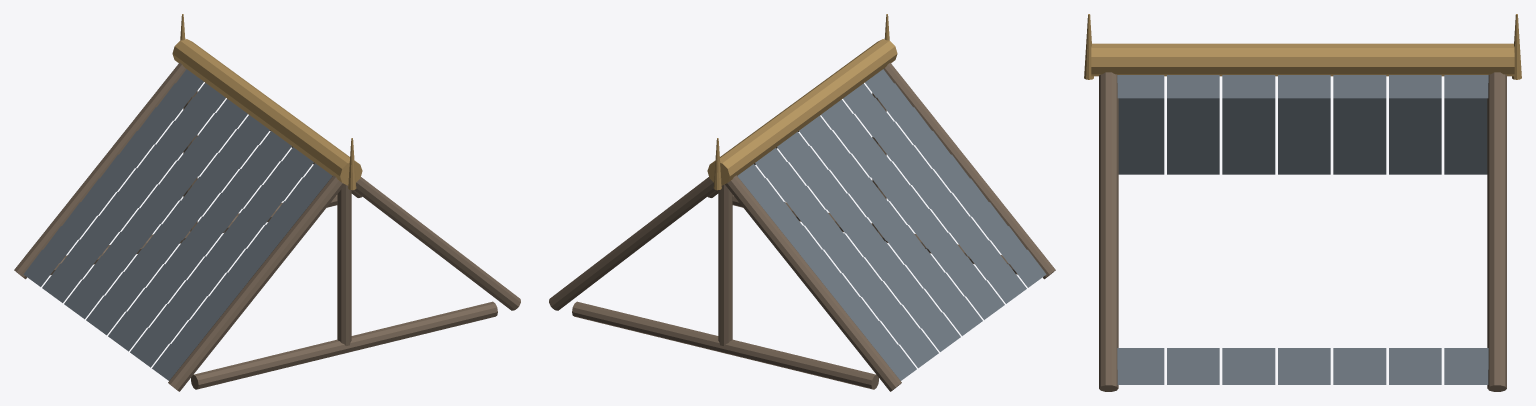
File: slate_roof_broken.glb
3 views of the same model, side by side, from view 1: azimuth 30°, elevation 25°; view 2: azimuth 150°, elevation 25°; view 3: azimuth 270°, elevation 25° (orthographic). The views are drawn at different scales.
Parts seen in each view (by area): view 1: Body.040; view 2: Body.040; view 3: Body.040.
Boxes of the visible parts, x1,y1,x2,y2 form: Body.040: (14, 14, 520, 391); Body.040: (549, 14, 1055, 391); Body.040: (1084, 14, 1521, 391).
Size of the model in its own units: 2.34 by 1.4 by 2.01.
